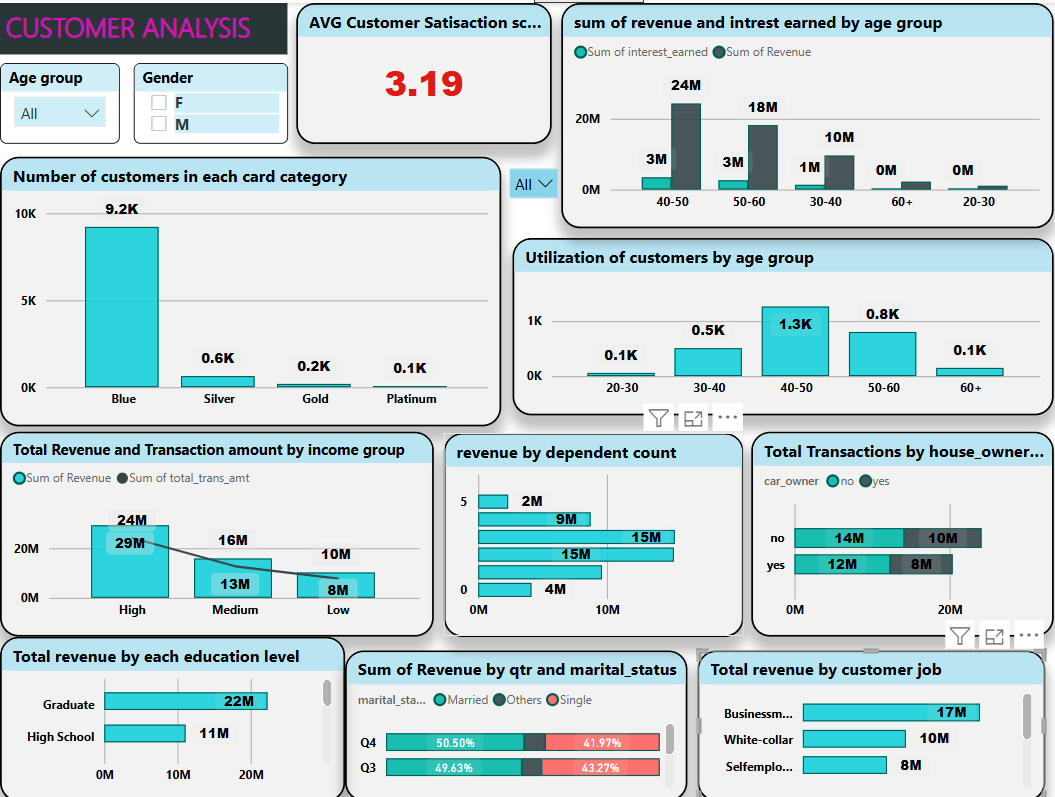

This screenshot's page, from the dashboard's own definition file:
{"tool":"powerbi","page":{"name":"Report on Customer","canvas":[950,860],"ordinal":2},"visuals":[{"type":"textbox","box":[0,0,259.2,46.6],"z":0},{"type":"slicer","title":"Age group","fields":{"Values":["public customer_detail.Age_group"]},"box":[0,54.4,107.8,72.5],"z":1000},{"type":"slicer","title":"Gender","fields":{"Values":["public customer_detail.gender"]},"box":[120.3,54.1,138.9,72.7],"z":2000},{"type":"card","title":"AVG Customer Satisaction score","fields":{"Values":["Avg(public customer_detail.cust_satisfaction_score)"]},"box":[267.6,0,230.3,126.8],"z":3000},{"type":"clusteredColumnChart","title":"Utilization of customers by age group","fields":{"Category":["public customer_detail.Age_group"],"Y":["Sum(public credit_card_detail.avg_utilization_ratio)"]},"box":[461.8,212.3,488.4,160.1],"z":4000},{"type":"clusteredColumnChart","title":"sum of revenue and intrest earned by age group","fields":{"Category":["public customer_detail.Age_group"],"Y":["Sum(public credit_card_detail.interest_earned)","Sum(public credit_card_detail.Revenue)"]},"box":[506.3,0,443.9,203.3],"z":5000},{"type":"columnChart","title":"Number of customers in each card category","fields":{"Category":["public credit_card_detail.card_category"],"Y":["CountNonNull(public credit_card_detail.client_num)"]},"box":[0,138.9,452.2,243.4],"z":6000},{"type":"slicer","fields":{"Values":["public credit_card_detail.delinquent_acc"]},"box":[448.5,138.9,65.5,64.6],"z":7000},{"type":"lineStackedColumnComboChart","title":"Total Revenue and Transaction amount by income group","fields":{"Y":["Sum(public credit_card_detail.Revenue)"],"Category":["public customer_detail.income_group"],"Y2":["Sum(public credit_card_detail.total_trans_amt)"]},"box":[0,387,391.6,235.9],"z":8000},{"type":"clusteredBarChart","title":"Total revenue by each education level","fields":{"Category":["public customer_detail.education_level"],"Y":["Sum(public credit_card_detail.Revenue)"]},"box":[0,632.2,311.4,227.5],"z":9000},{"type":"hundredPercentStackedBarChart","fields":{"Category":["public credit_card_detail.qtr"],"Series":["public customer_detail.marital_status"],"Y":["Sum(public credit_card_detail.Revenue)"]},"box":[319.8,632.2,309.6,227.5],"z":10000},{"type":"barChart","title":"revenue by dependent count","fields":{"Category":["public customer_detail.dependent_count"],"Y":["Sum(public credit_card_detail.Revenue)"]},"box":[400,387.9,270.4,235.9],"z":11000},{"type":"barChart","fields":{"Category":["public customer_detail.house_owner"],"Series":["public customer_detail.car_owner"],"Y":["public credit_card_detail.Total Transactions"]},"box":[677,387,273.2,235.9],"z":12000},{"type":"barChart","title":"Total revenue by customer job","fields":{"Y":["Sum(public credit_card_detail.Revenue)"],"Category":["public customer_detail.customer_job"]},"box":[636.9,632.2,313.3,227.5],"z":13000}]}

Visuals, with their boxes on the page's 950x860 design canvas (x1, y1, x2, y2). These are canvas units, not pixel positions in the 1055x797 screenshot, which may show the page scaled, cropped or inside an application window:
textbox: bbox=[0, 0, 259, 47]
"Age group" slicer: bbox=[0, 54, 108, 127]
"Gender" slicer: bbox=[120, 54, 259, 127]
"AVG Customer Satisaction score" card: bbox=[268, 0, 498, 127]
"Utilization of customers by age group" clusteredColumnChart: bbox=[462, 212, 950, 372]
"sum of revenue and intrest earned by age group" clusteredColumnChart: bbox=[506, 0, 950, 203]
"Number of customers in each card category" columnChart: bbox=[0, 139, 452, 382]
slicer - public credit_card_detail.delinquent_acc: bbox=[448, 139, 514, 204]
"Total Revenue and Transaction amount by income group" lineStackedColumnComboChart: bbox=[0, 387, 392, 623]
"Total revenue by each education level" clusteredBarChart: bbox=[0, 632, 311, 860]
hundredPercentStackedBarChart - public credit_card_detail.qtr x public customer_detail.marital_status: bbox=[320, 632, 629, 860]
"revenue by dependent count" barChart: bbox=[400, 388, 670, 624]
barChart - public customer_detail.house_owner x public customer_detail.car_owner: bbox=[677, 387, 950, 623]
"Total revenue by customer job" barChart: bbox=[637, 632, 950, 860]
